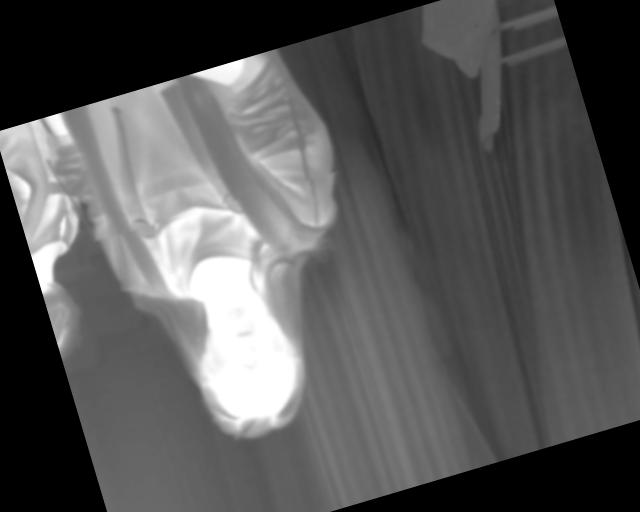face: (184, 295, 316, 449)
